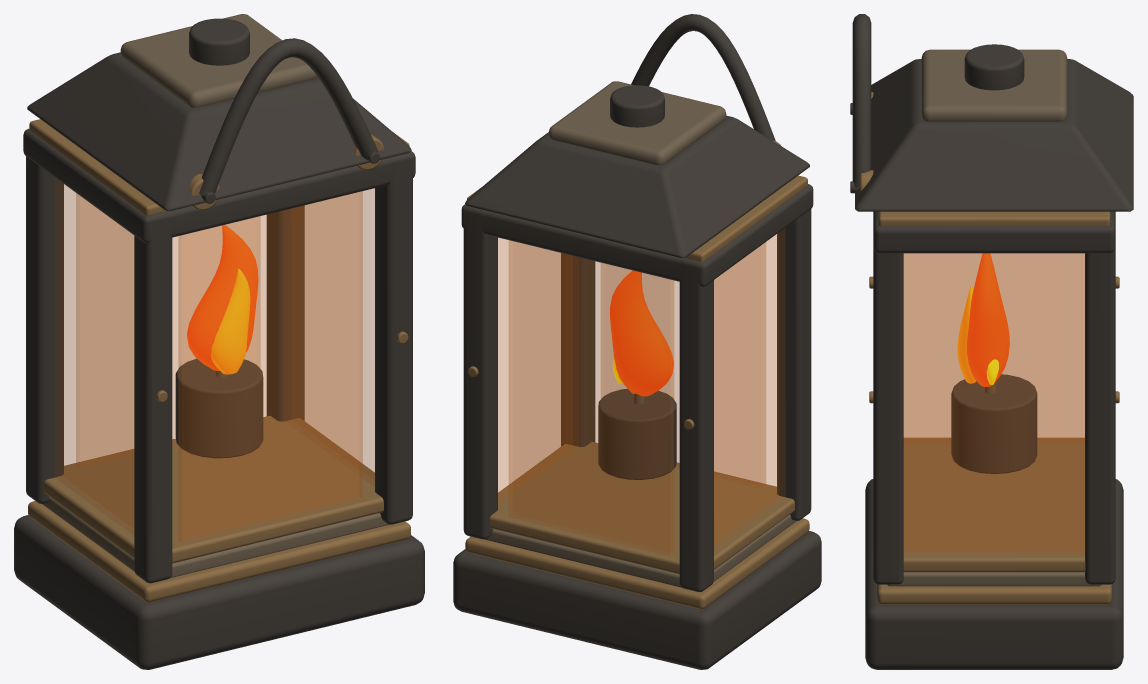
Rendered from ember-lantern-v02.glb.
3 renders of one model, left to right at view 1: azimuth 30°, elevation 25°; view 2: azimuth 150°, elevation 25°; view 3: azimuth 270°, elevation 25°, orthographic. The views are drawn at different scales.
Parts seen in each view (by area): view 1: Amber glass front/back, Tapered lantern roof, Base pan, Bottom trim, Amber glass sides, Amber glass sides.001, Amber glass front/back.001, Forged corner upright, Forged corner upright.002, Forged corner upright.001, Upper retaining rail, Forged corner upright.003 (+9 smaller); view 2: Amber glass front/back.001, Tapered lantern roof, Base pan, Bottom trim, Amber glass sides, Amber glass sides.001, Amber glass front/back, Forged corner upright.001, Forged corner upright.003, Forged corner upright, Upper retaining rail, Roof crown (+8 smaller); view 3: Amber glass sides.001, Tapered lantern roof, Amber glass sides, Bottom trim, Base pan, Forged corner upright.002, Forged corner upright.003, Roof crown, Inner ember holder, Upper retaining rail, Lower bronze bead, Outer curved flame (+5 smaller).
Boxes of the visible parts, x1,y1,x2,y2 form: Amber glass front/back: [178, 191, 362, 542]; Tapered lantern roof: [27, 52, 411, 211]; Base pan: [14, 515, 424, 669]; Bottom trim: [44, 415, 383, 563]; Amber glass sides: [55, 178, 133, 534]; Amber glass sides.001: [291, 188, 374, 486]; Amber glass front/back.001: [76, 193, 259, 465]; Forged corner upright: [134, 211, 172, 583]; Forged corner upright.002: [375, 153, 412, 524]; Forged corner upright.001: [26, 156, 63, 503]; Upper retaining rail: [23, 128, 415, 243]; Forged corner upright.003: [266, 205, 304, 421]; Amber glass front/back.001: [509, 240, 673, 555]; Tapered lantern roof: [465, 115, 809, 258]; Base pan: [453, 531, 821, 669]; Bottom trim: [490, 441, 794, 574]; Amber glass sides: [714, 229, 784, 548]; Amber glass sides.001: [498, 238, 572, 505]; Amber glass front/back: [601, 242, 765, 486]; Forged corner upright.001: [679, 258, 713, 592]; Forged corner upright.003: [463, 206, 497, 539]; Forged corner upright: [777, 209, 811, 520]; Upper retaining rail: [461, 184, 813, 286]; Roof crown: [548, 81, 726, 165]; Amber glass sides.001: [904, 253, 1084, 553]; Tapered lantern roof: [855, 59, 1133, 211]; Amber glass sides: [904, 254, 1084, 441]; Bottom trim: [903, 437, 1085, 572]; Base pan: [865, 479, 1123, 669]; Forged corner upright.002: [873, 216, 903, 584]; Forged corner upright.003: [1085, 216, 1115, 584]; Roof crown: [921, 49, 1067, 121]; Inner ember holder: [951, 374, 1037, 473]; Upper retaining rail: [873, 211, 1115, 253]; Lower bronze bead: [877, 584, 1111, 604]; Outer curved flame: [967, 253, 1009, 386].
Size of the model in its own units: 0.49 by 0.9808 by 0.4286.
